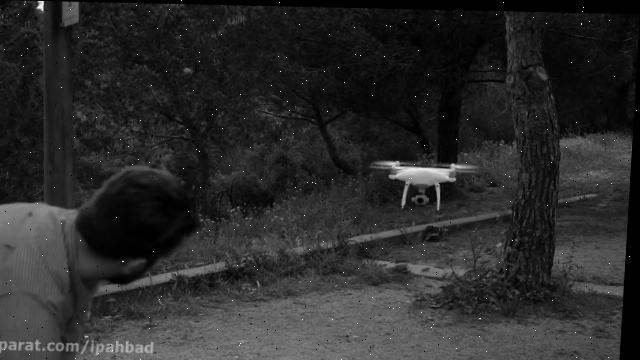drone: (366, 155, 482, 210)
